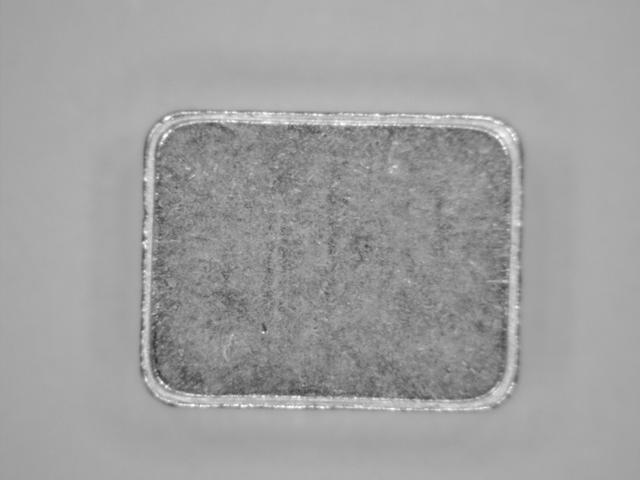nok: (136, 104, 529, 422)
